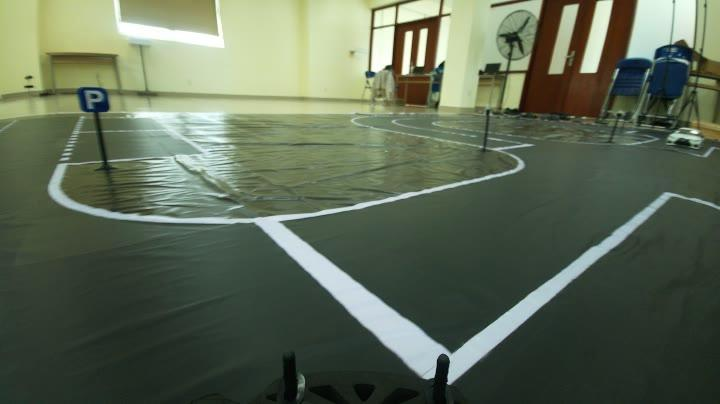parking: (76, 82, 109, 116)
